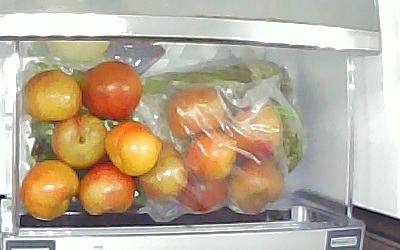prune: (80, 61, 143, 121), (21, 159, 79, 220), (22, 70, 81, 122), (80, 161, 136, 215), (51, 115, 109, 167), (106, 122, 159, 176)
prune_vinyl: (231, 156, 287, 215), (232, 98, 283, 160), (168, 87, 226, 139), (140, 142, 188, 201), (187, 131, 236, 179), (179, 173, 230, 215)
